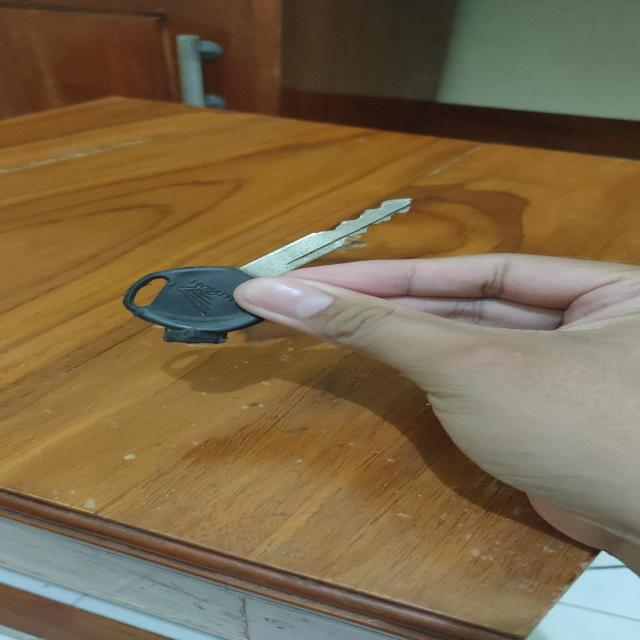kunci_motor: (111, 184, 430, 354)
